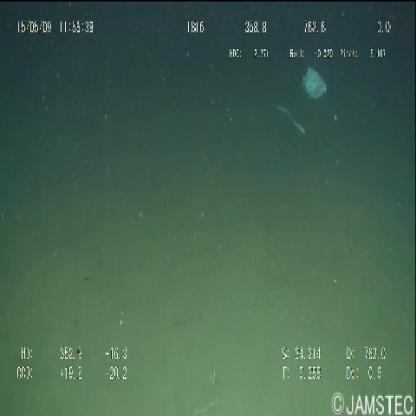Bio: (273, 98, 309, 140)
Rác: (298, 60, 328, 104)
